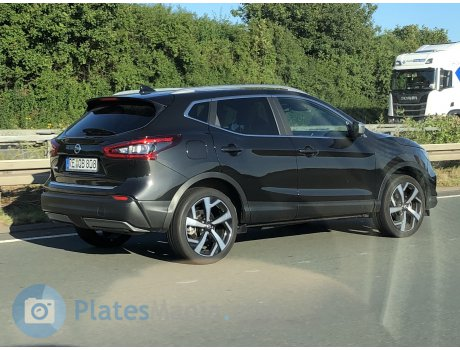License Plates: (63, 156, 102, 168)
